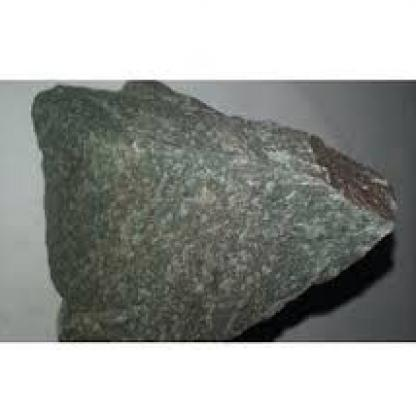Metamorphic_Quartize: (17, 88, 404, 344)
